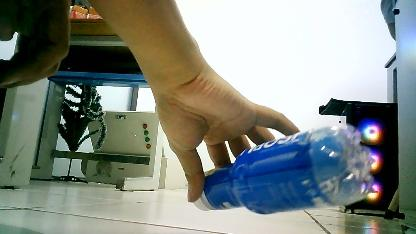Plastic Bottle: (157, 113, 382, 220)
